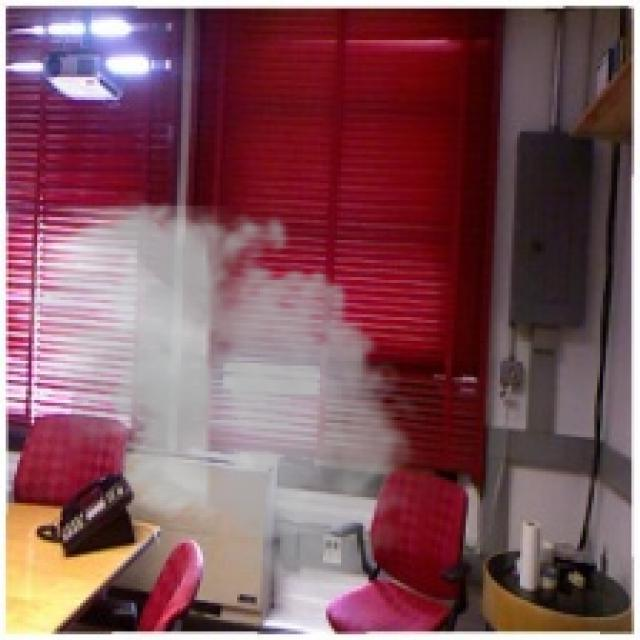Smoke: (11, 188, 428, 594)
